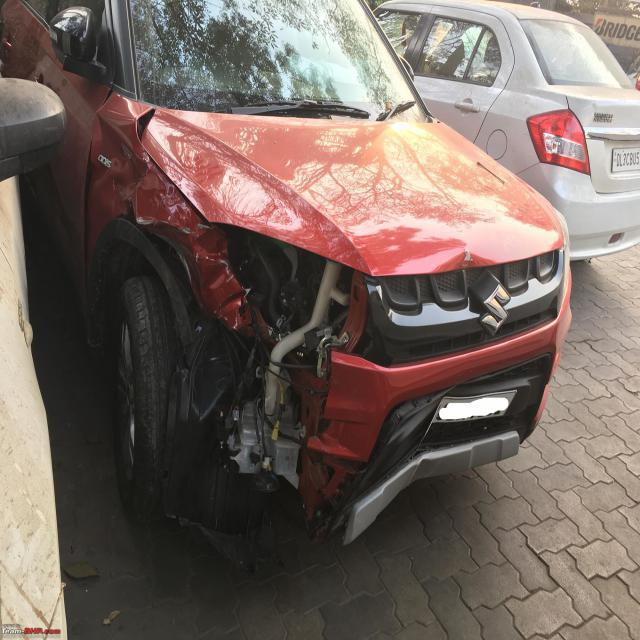fender-dent: (66, 94, 182, 328)
front-bumper-dent: (179, 236, 577, 508)
